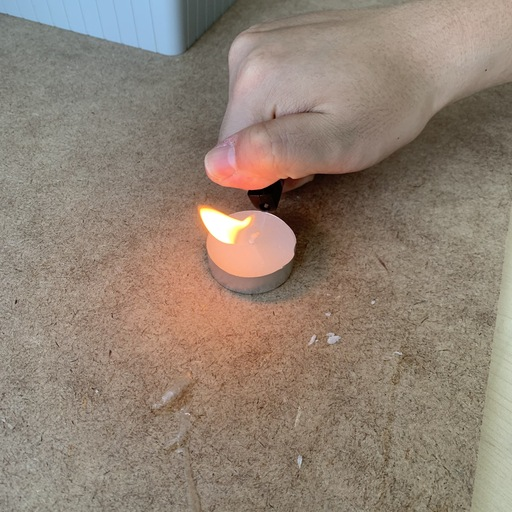fire: (195, 200, 255, 250)
